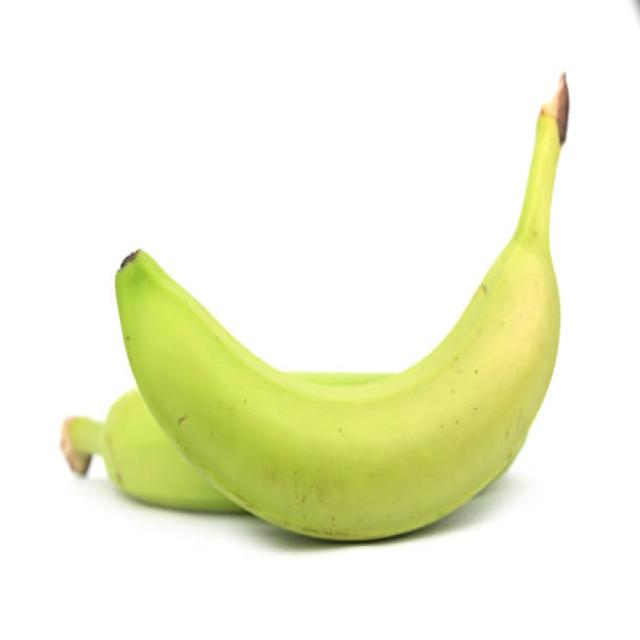banana: (115, 87, 562, 542)
